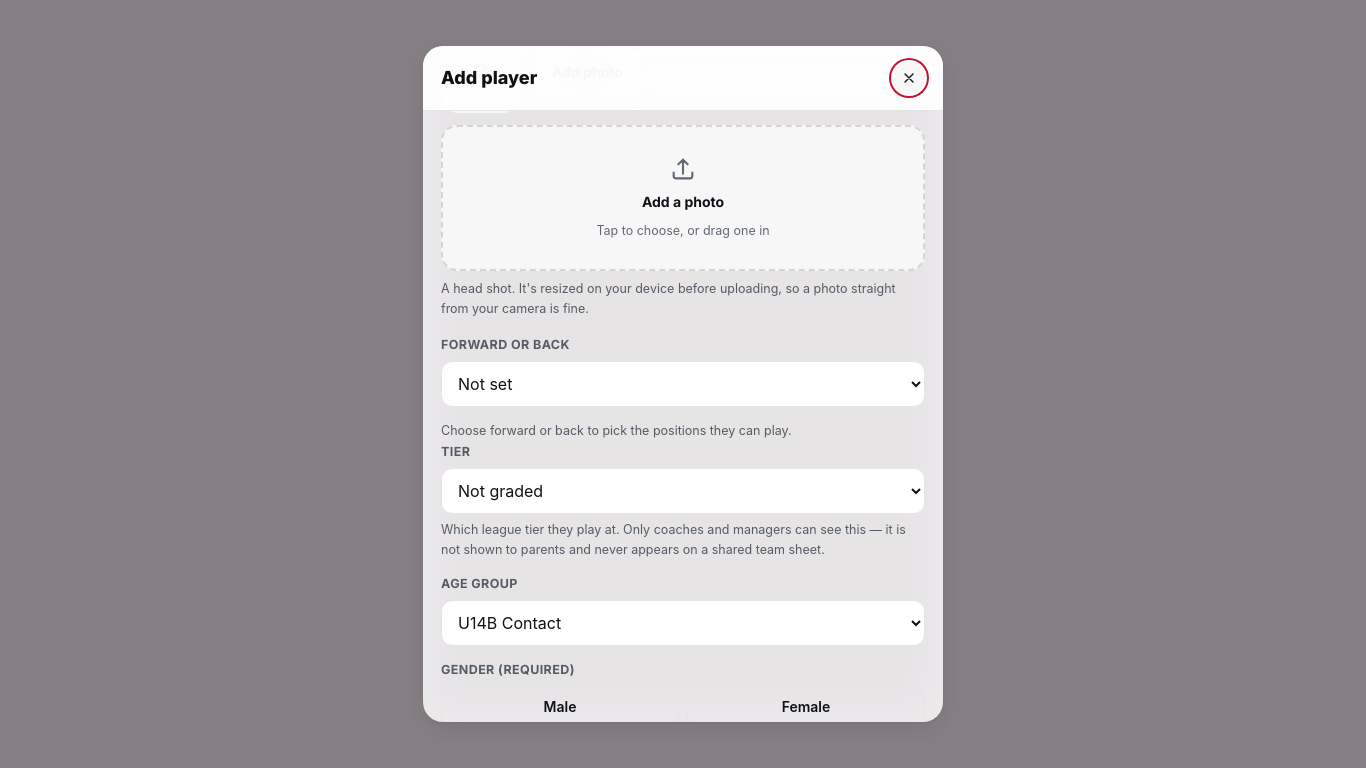
PlayerForm — a minis player › ⚠️ HAS the selection fields at U14 — the control
(page scrolled)
Expected: the dropdown labelled "Tier" is shown, [441,468,925,514]
Expected: the text "Choose forward or back to pick the positions they can play." is shown, [441,423,792,438]
Select "Forward" in the dropdown labelled "Forward or back" at (683, 384), box [441,361,925,407]
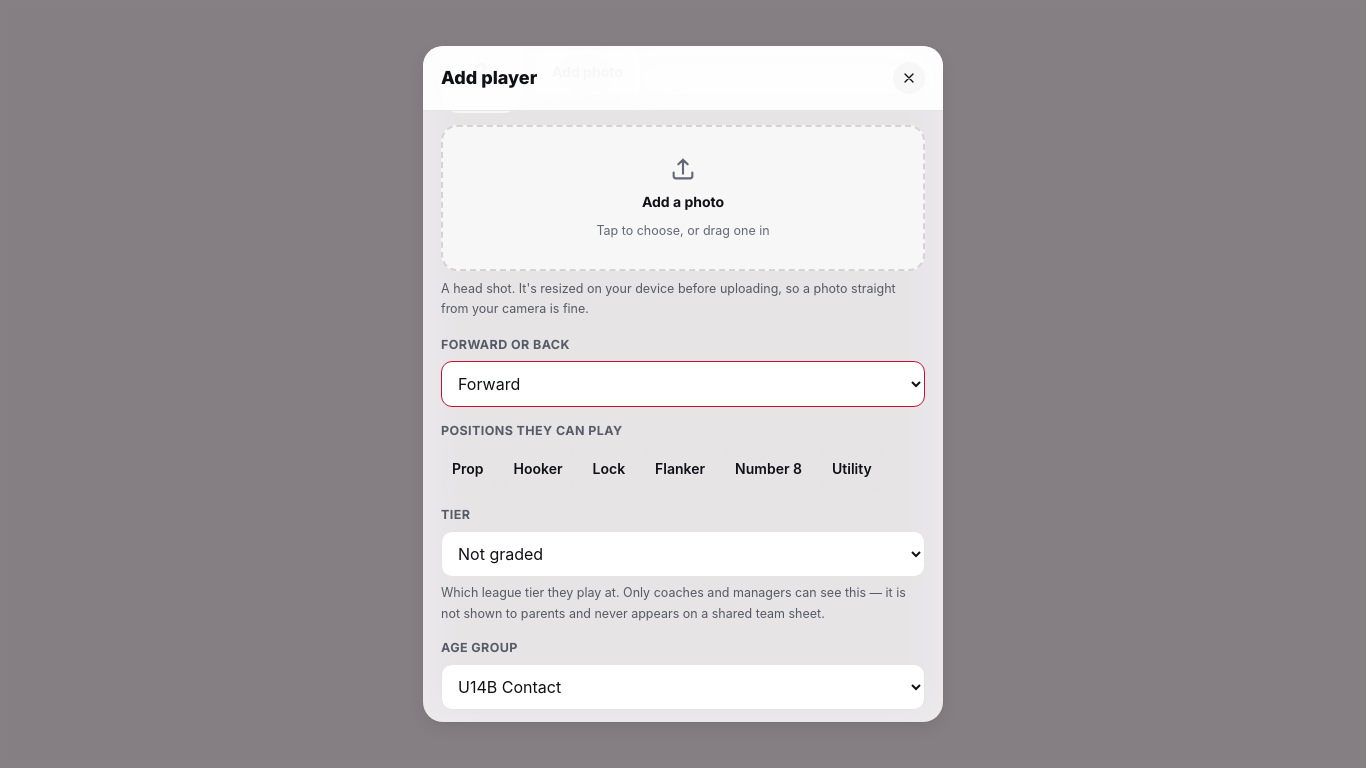
Expected: the element "Positions they can play" is shown, [441,421,925,491]
